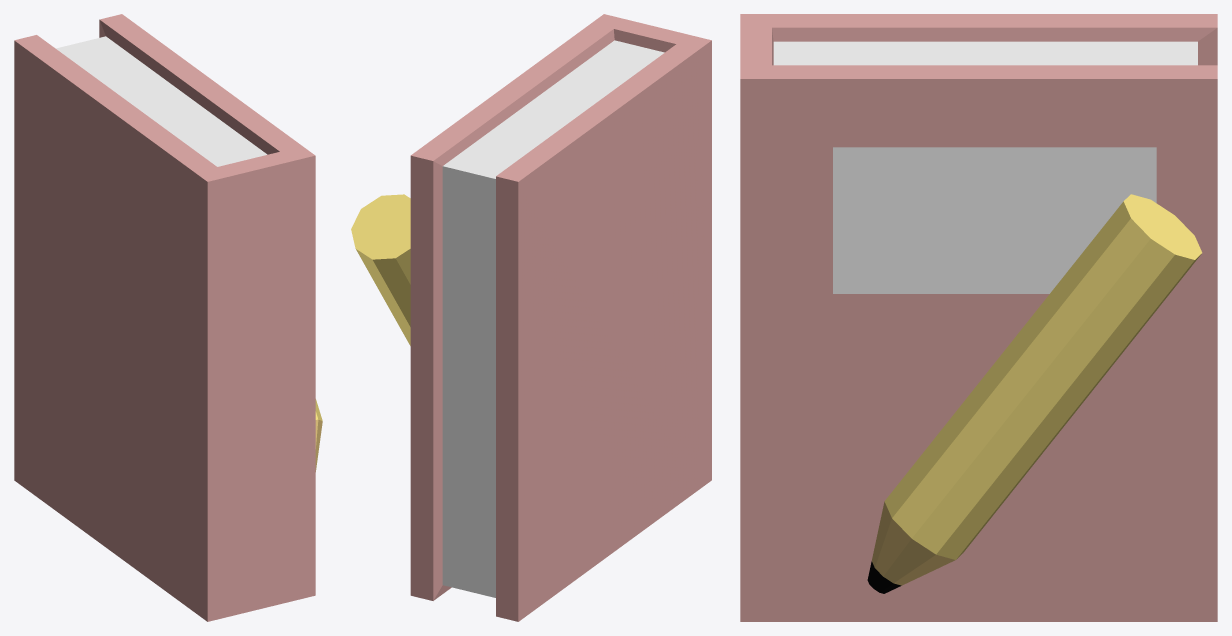
File: journal1.fbx
The picture shows the model from 3 angles, left to right: view 1: azimuth 30°, elevation 25°; view 2: azimuth 150°, elevation 25°; view 3: azimuth 270°, elevation 25°; orthographic projection. The views are drawn at different scales.
Parts seen in each view (by area): view 1: Journal; view 2: Journal; view 3: Journal.
Boxes of the visible parts, box(x1,y1,x2,y2) form: Journal: box(14, 14, 322, 621); Journal: box(351, 14, 711, 621); Journal: box(740, 14, 1217, 621).
Bounding box in the file's own units: 37.18 × 84.69 × 67.47.
